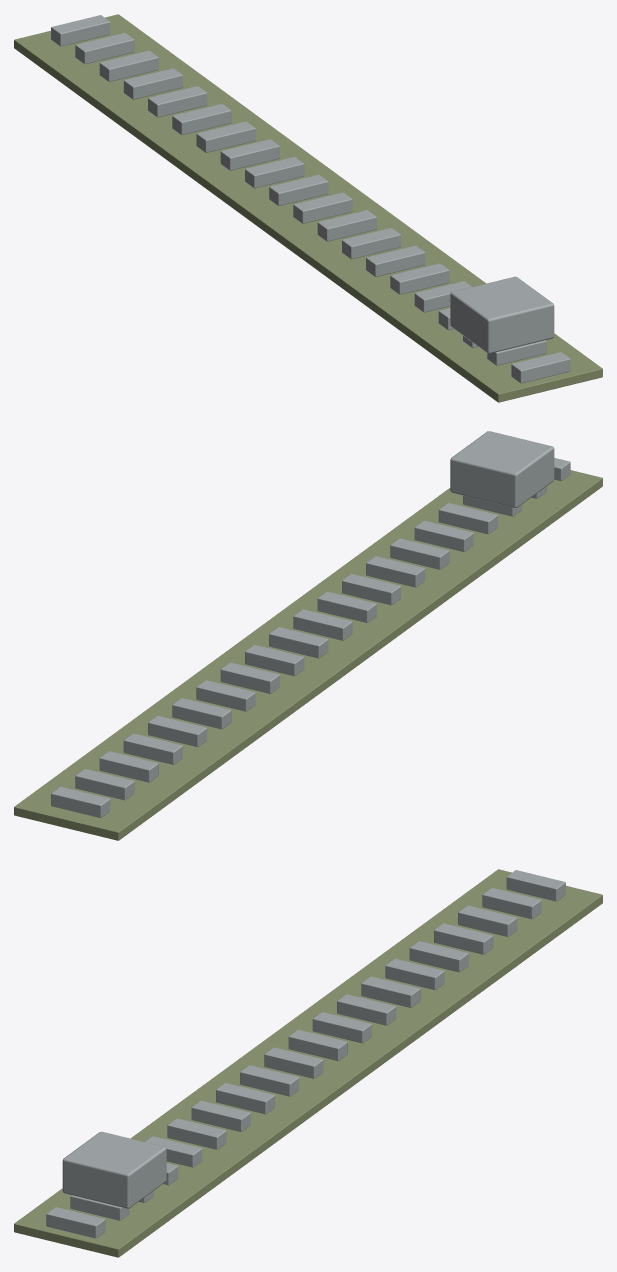
Rendered from scavengers-loot-library-zipper-strip-6b42f269__2679.glb.
The picture shows the model from 3 angles, top to bottom: view 1: azimuth 30°, elevation 25°; view 2: azimuth 150°, elevation 25°; view 3: azimuth 330°, elevation 25°; orthographic projection.
Parts seen in each view (by area): view 1: zipper-strip; view 2: zipper-strip; view 3: zipper-strip.
Part boxes in pixels (box(x1,y1,x2,y2)): zipper-strip: box(14, 14, 602, 402); zipper-strip: box(14, 431, 602, 840); zipper-strip: box(14, 869, 602, 1257).
Bounding box in the file's own units: 0.025 × 0.013 × 0.2.
